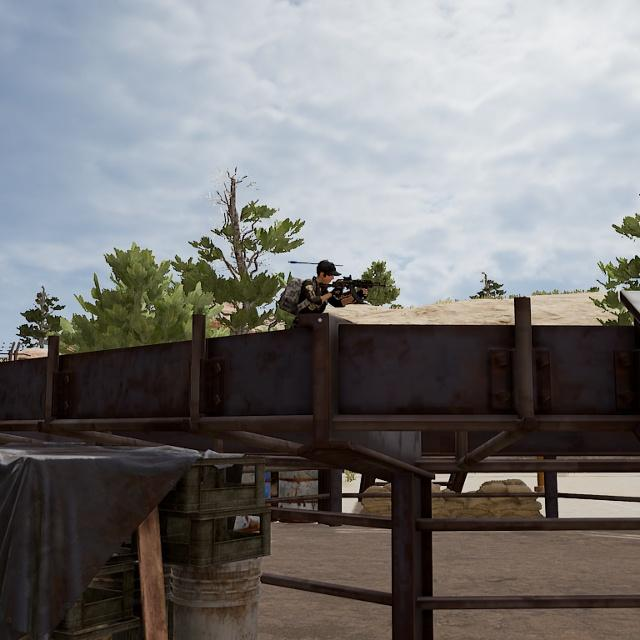head: (308, 255, 345, 287)
people: (275, 255, 366, 328)
